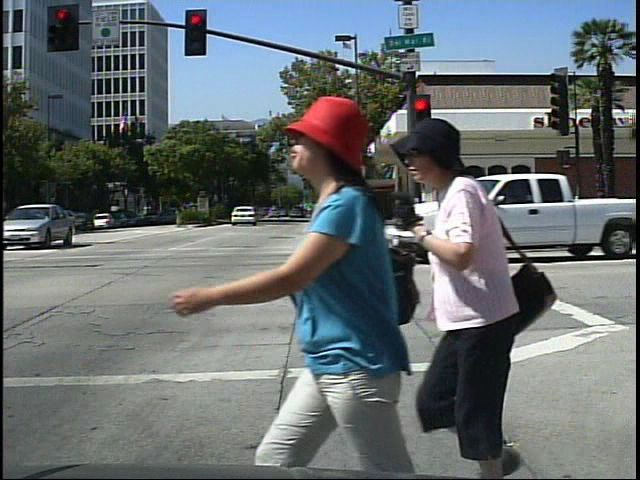person: (193, 63, 421, 477), (401, 117, 561, 480)
